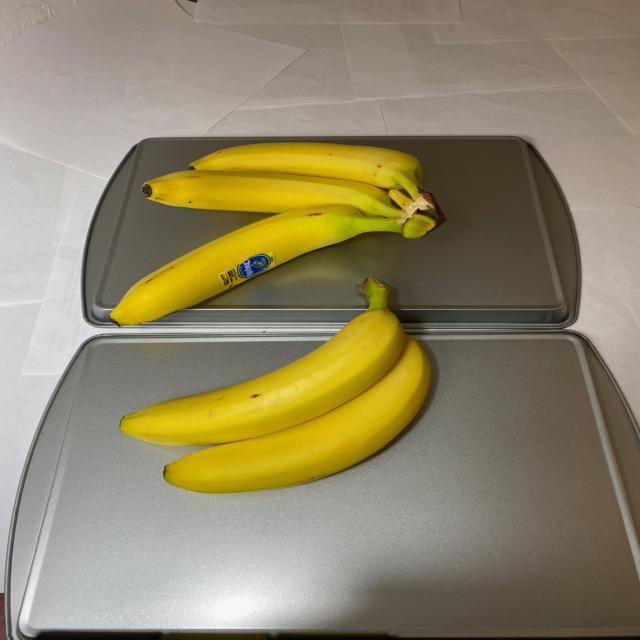banana: (118, 278, 440, 498), (103, 143, 452, 332)
